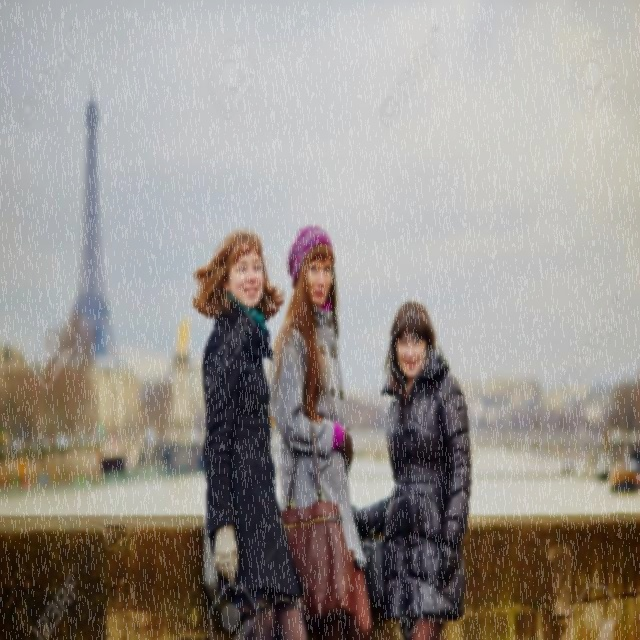pessoa: (182, 216, 318, 640), (264, 220, 376, 640), (350, 302, 473, 640)
